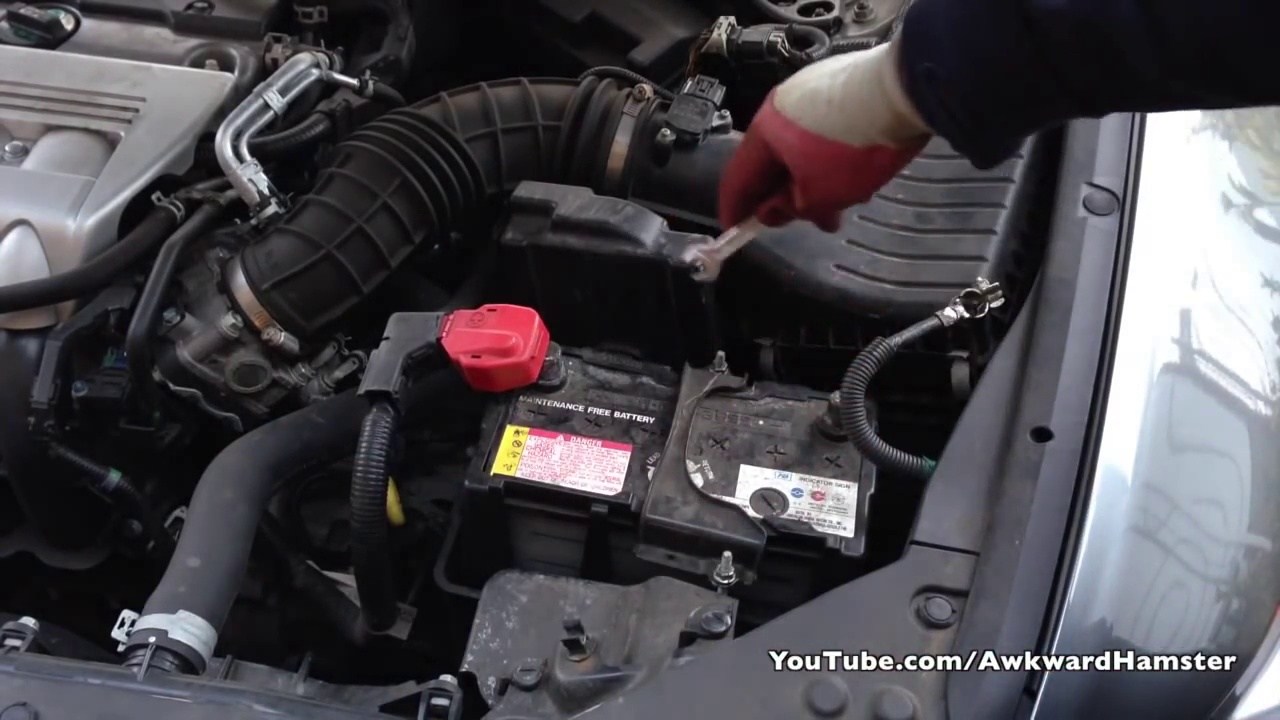battery: (446, 335, 876, 555)
neg_disconnected: (787, 356, 883, 453)
pos_connected: (435, 280, 577, 406)
